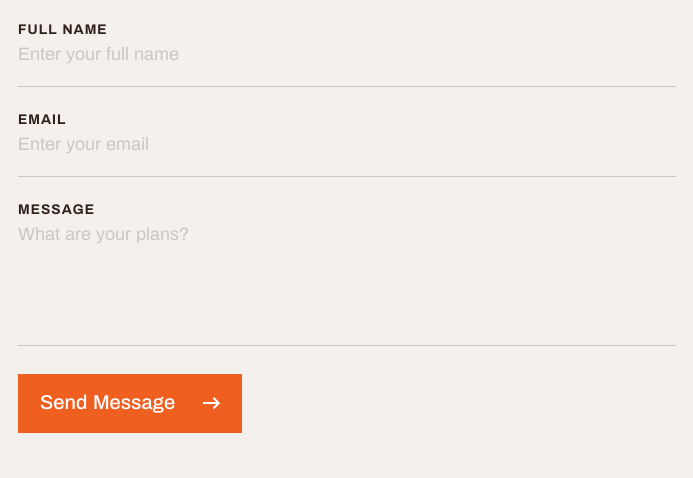
Test: Contact page › submits successfully
The image size is (693, 478).
Type "John Doe" into the field with placeholder "Enter your full name".
click(347, 66); type("John Doe")  # box [18, 46, 676, 87]
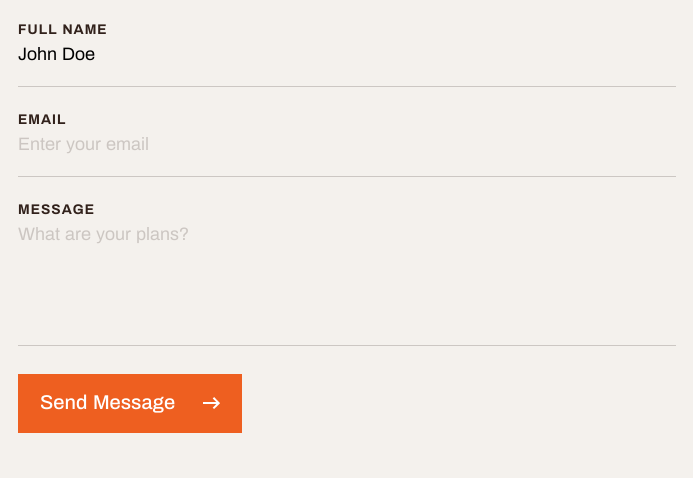
Type "john.doe@gmail.com" into the field with placeholder "Enter your email".
click(347, 156); type("john.doe@gmail.com")  # box [18, 136, 676, 177]
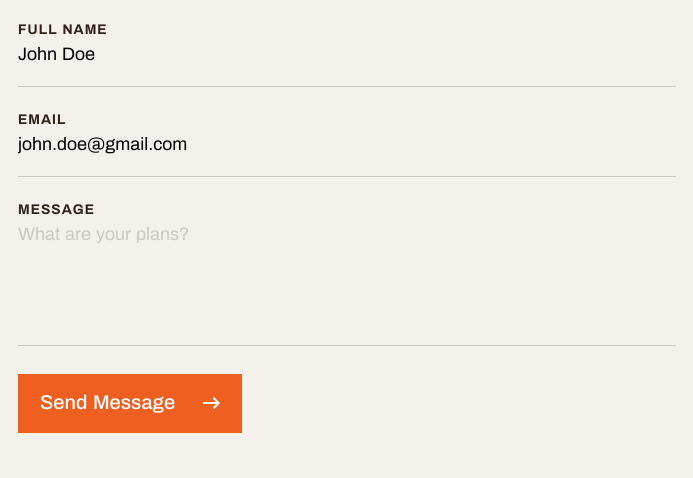
Type "Lorem ipsum dolor sit amet, consectetur adipiscing elit. Quisque consectetur sapien a urna suscipit, sit amet egestas mi egestas. Donec maximus tortor sit amet nisi cursus dapibus. Ut facilisis sem eu" into the text box with placeholder "What are your plans?".
click(347, 286); type("Lorem ipsum dolor sit amet, consectetur adipiscing elit. Quisque consectetur sapien a urna suscipit, sit amet egestas mi egestas. Donec maximus tortor sit amet nisi cursus dapibus. Ut facilisis sem eu")  # box [18, 226, 676, 346]
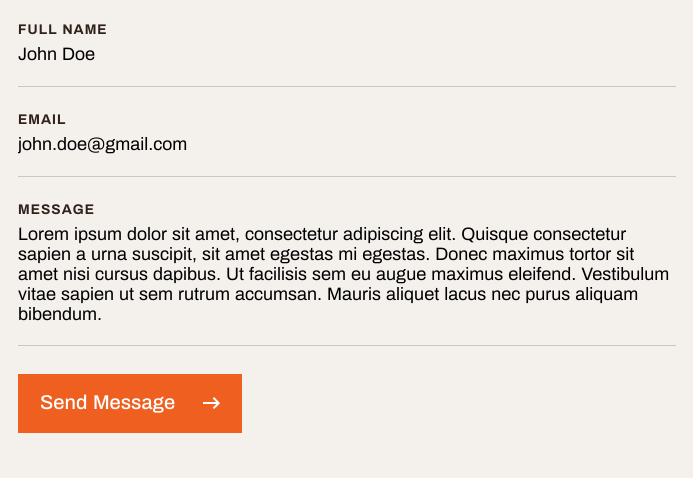
Click the button "Send Message".
click(130, 404)  # box [18, 374, 242, 433]
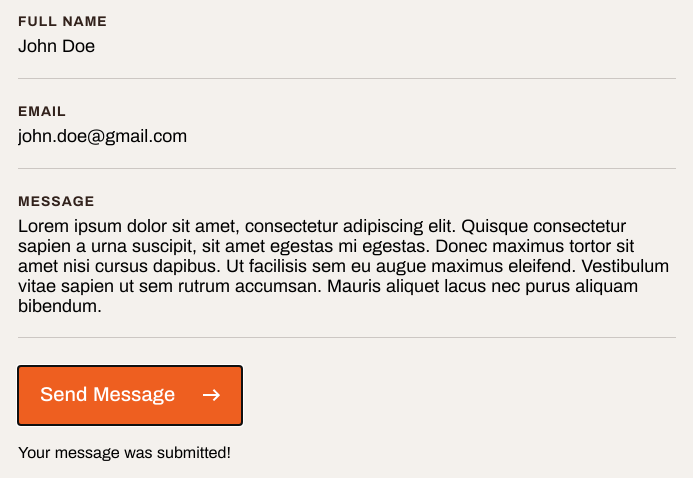
Check: the text "Your message was submitted!" is shown, box [18, 446, 231, 460]
